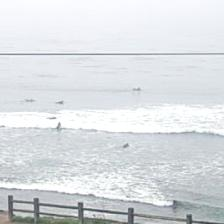surfer: (25, 98, 35, 103), (132, 86, 142, 91), (56, 121, 62, 129), (56, 100, 64, 105), (47, 116, 57, 120), (122, 143, 130, 148)
